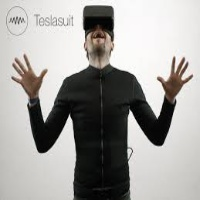ring: (11, 63, 24, 77), (180, 63, 189, 77)
